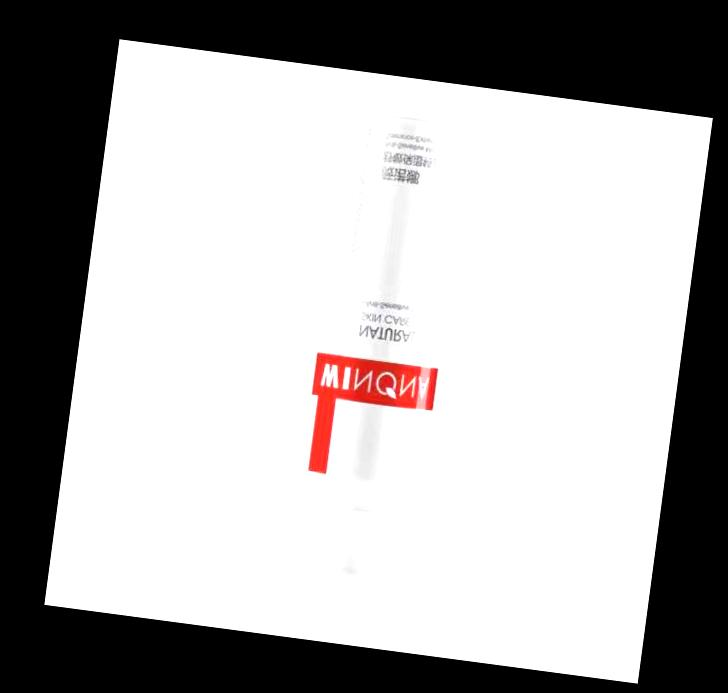cosmetic: (279, 106, 473, 624)
